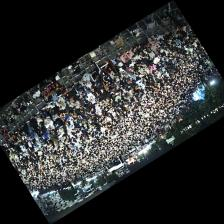person: (89, 58, 101, 81), (41, 110, 54, 130), (102, 59, 115, 74), (62, 87, 75, 102), (51, 114, 62, 131), (58, 99, 69, 116), (131, 43, 144, 56), (119, 49, 131, 63), (78, 72, 90, 86), (43, 102, 57, 114), (57, 112, 69, 125), (53, 96, 65, 109), (38, 128, 47, 145), (85, 87, 94, 103), (101, 72, 112, 85), (27, 124, 34, 143), (18, 123, 29, 135), (27, 118, 37, 131), (73, 82, 84, 93), (74, 88, 85, 99), (93, 81, 104, 92), (69, 95, 79, 107), (79, 104, 88, 117), (18, 131, 27, 144), (155, 33, 165, 44), (84, 82, 95, 91), (162, 31, 173, 40), (150, 43, 161, 52), (101, 91, 110, 102), (32, 115, 41, 126), (136, 58, 146, 67), (9, 134, 18, 144), (130, 53, 139, 63), (120, 62, 131, 70), (119, 67, 127, 77), (146, 35, 156, 43), (32, 132, 39, 143), (139, 50, 148, 58), (180, 24, 189, 32), (112, 57, 121, 65), (143, 42, 150, 52), (170, 26, 176, 37), (78, 97, 83, 110), (138, 67, 146, 75), (152, 57, 160, 65), (47, 74, 55, 82), (148, 51, 155, 60), (109, 74, 118, 81), (94, 104, 100, 114), (152, 50, 160, 57), (4, 138, 11, 146), (129, 63, 135, 70)
